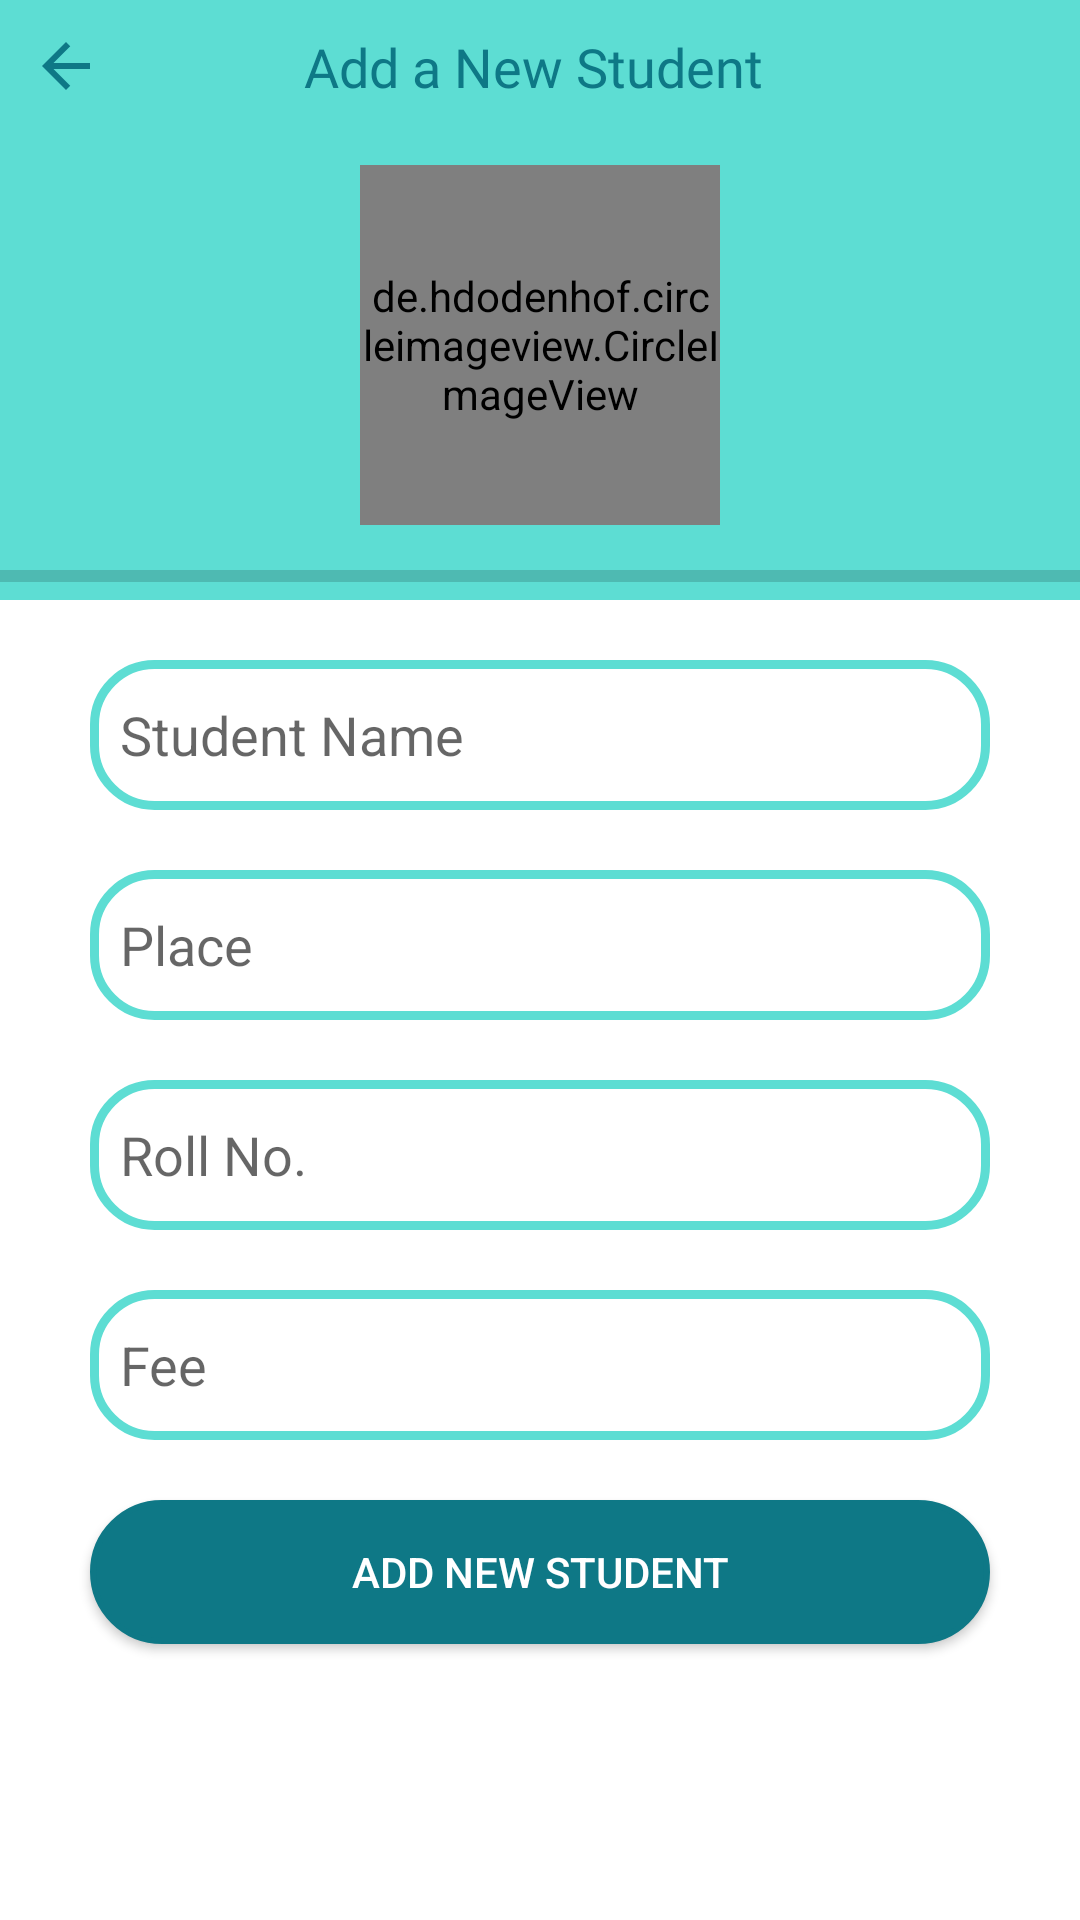

Locate icon controls on the screen. Image size 1080w x 1920h, boxes as (x1, y1, x2, y2).
back: (42, 42, 90, 90)
